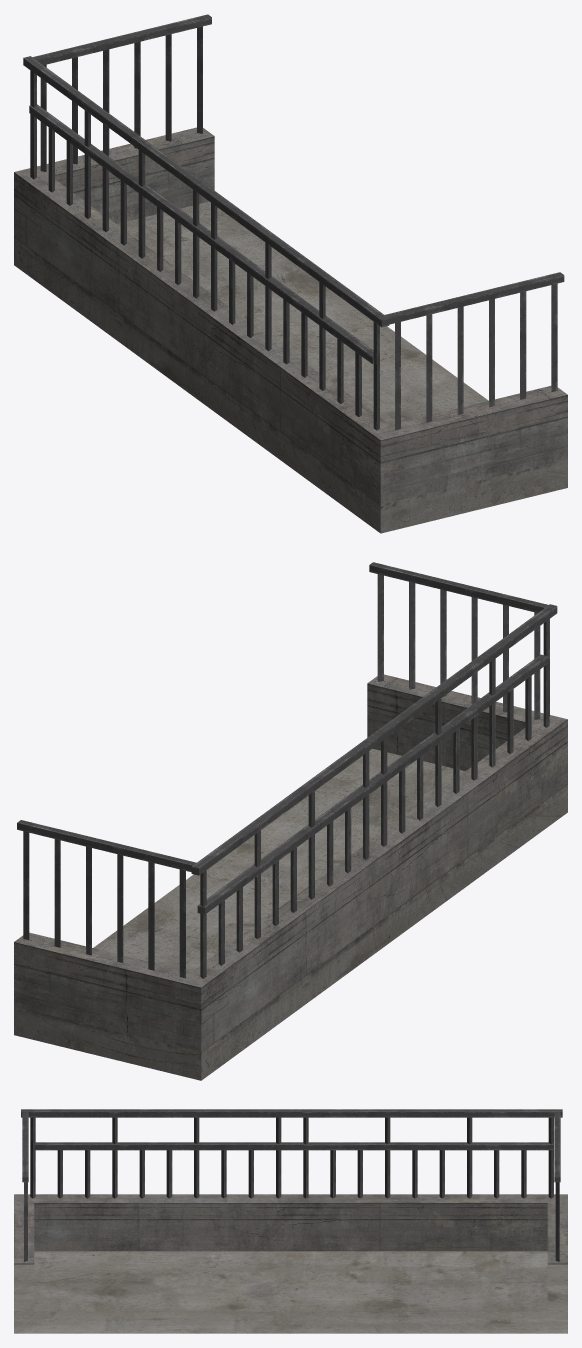
Rendered from CP_Balcony_02.fbx.
3 views of the same model, one above another, from view 1: azimuth 30°, elevation 25°; view 2: azimuth 150°, elevation 25°; view 3: azimuth 270°, elevation 25° (orthographic). The views are drawn at different scales.
Visible parts, largest first — view 1: CP_Balcony_02_LOD0; view 2: CP_Balcony_02_LOD0; view 3: CP_Balcony_02_LOD0.
Boxes of the visible parts, x1=… form: CP_Balcony_02_LOD0: x1=14, y1=14, x2=567, y2=533; CP_Balcony_02_LOD0: x1=14, y1=562, x2=567, y2=1080; CP_Balcony_02_LOD0: x1=14, y1=1109, x2=567, y2=1333.
Size of what is drawn, in the model's own units: 101 by 106 by 339.
